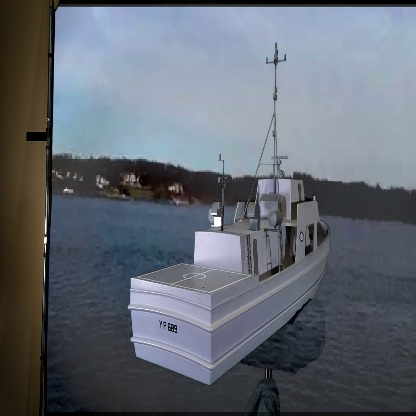YP689: (127, 39, 334, 385)
